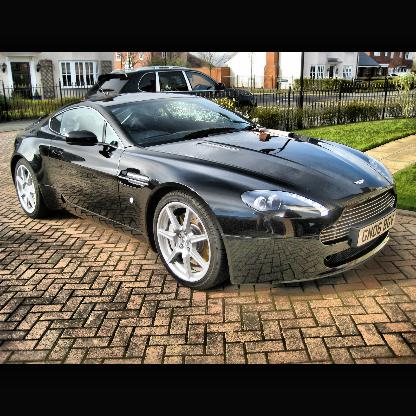Aston Martin V8 Vantage Coupe 2012: (4, 78, 410, 300)
